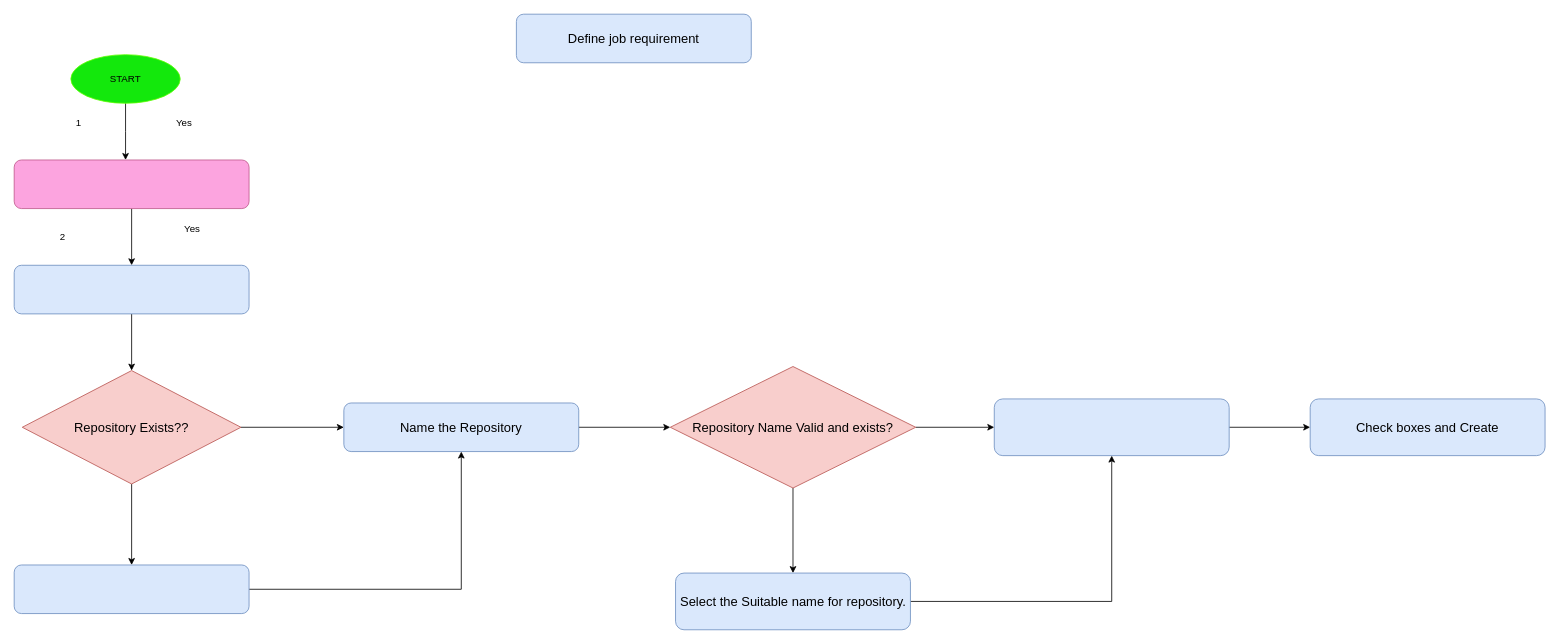
Image size: 1559x644. Some labels were removed from this diagram. Here are the shapes that lost their labels. From the top down, the box of each, then its label:
(13, 159, 249, 209): Log in to the Website
(13, 264, 249, 314): Open Dashboard
(993, 398, 1229, 456): Check the Access granted
(13, 564, 249, 614): Create Online Repository
